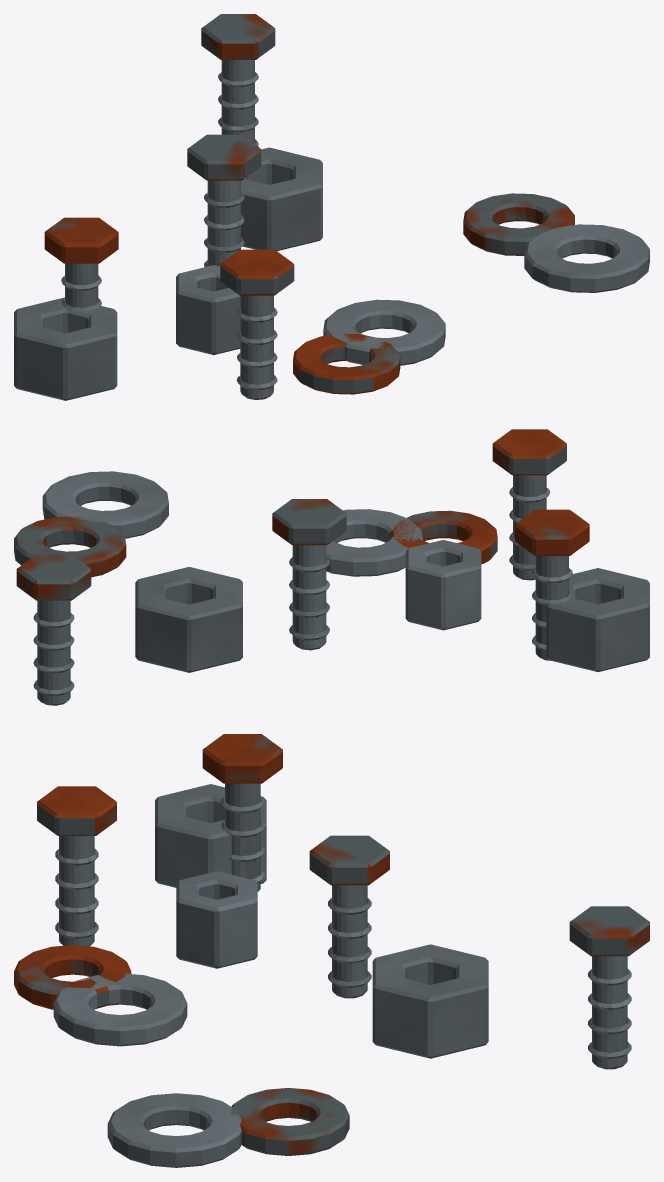
Rendered from hardware-3.glb.
3 renders of one model, top to bottom at view 1: azimuth 30°, elevation 25°; view 2: azimuth 150°, elevation 25°; view 3: azimuth 270°, elevation 25°, orthographic. The views are drawn at different scales.
Parts seen in each view (by area): view 1: hardware-3; view 2: hardware-3; view 3: hardware-3.
Boxes of the visible parts, box(x1,y1,x2,y2) form: hardware-3: box(14, 14, 649, 400); hardware-3: box(14, 429, 649, 705); hardware-3: box(14, 734, 649, 1167).
Bounding box in the file's own units: 0.5679 × 0.117 × 0.4728.
Materials: 2 (2 with a texture image).
